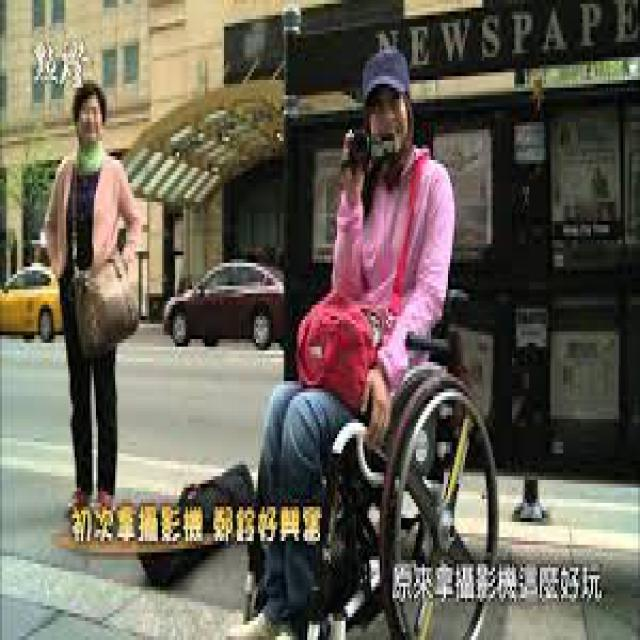wheelchairs: (232, 266, 512, 636)
